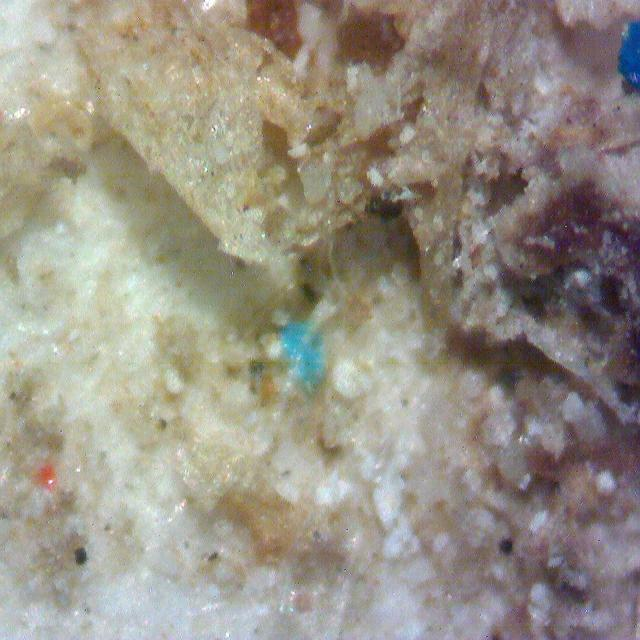microplastic: (278, 318, 326, 392), (618, 22, 640, 87)
